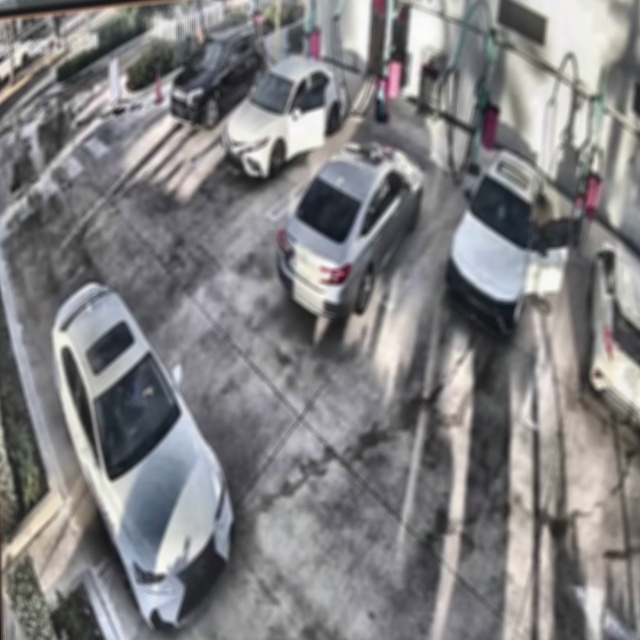Car: (51, 273, 235, 631), (277, 137, 421, 320), (446, 147, 571, 337), (224, 53, 345, 180)
